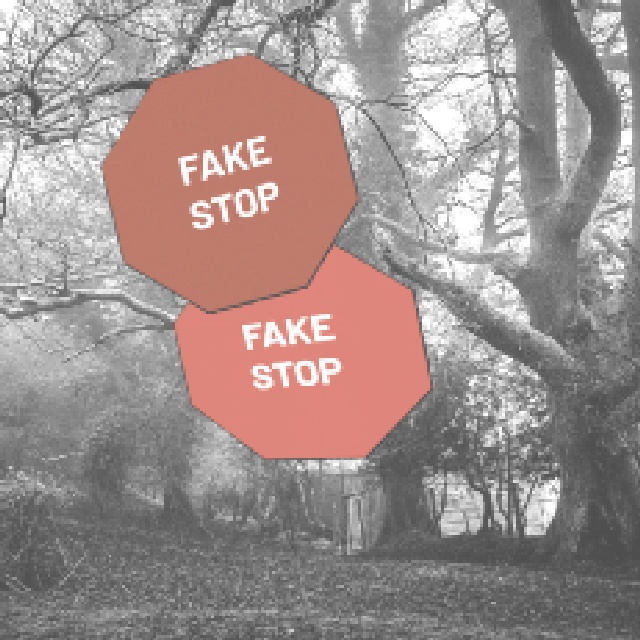FAKE_STOP: (98, 50, 358, 312), (170, 232, 432, 459)
